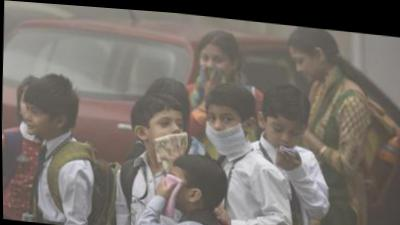NONE: (266, 109, 303, 149), (152, 110, 185, 154), (198, 45, 232, 79), (25, 100, 50, 136), (164, 168, 185, 208), (291, 46, 317, 78)
WRONG: (207, 100, 243, 147)
